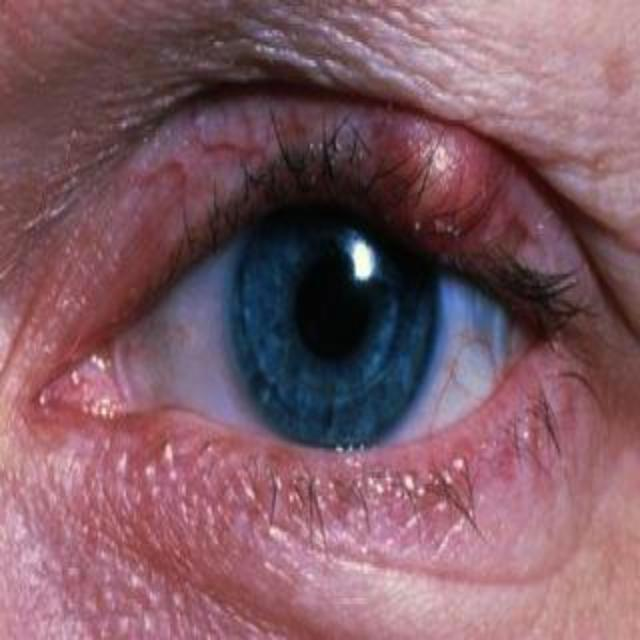Stye: (328, 80, 558, 280)
